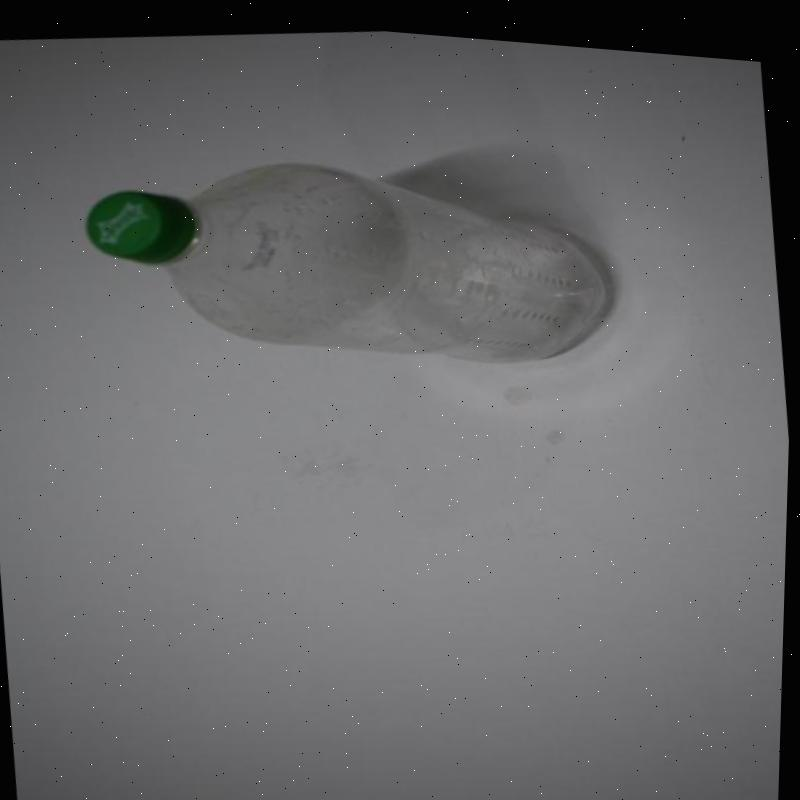botella: (68, 104, 628, 408)
